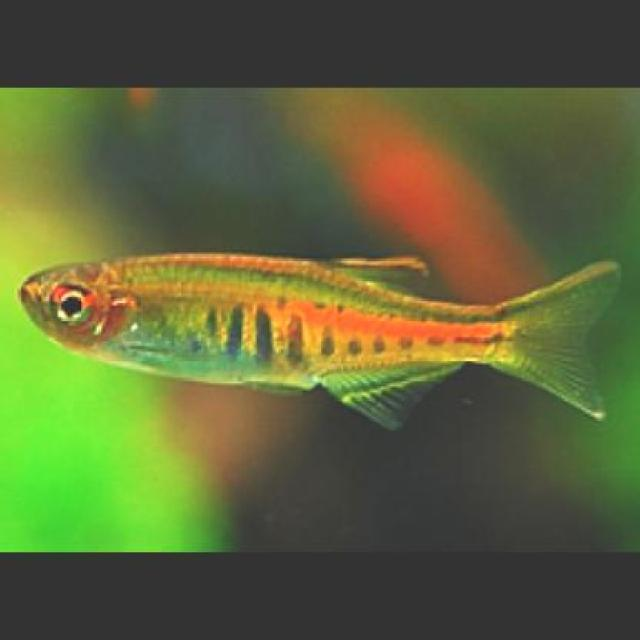ZebraFish: (21, 246, 622, 420)
